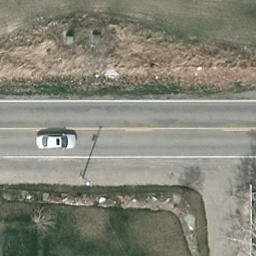car: (35, 134, 78, 150)
